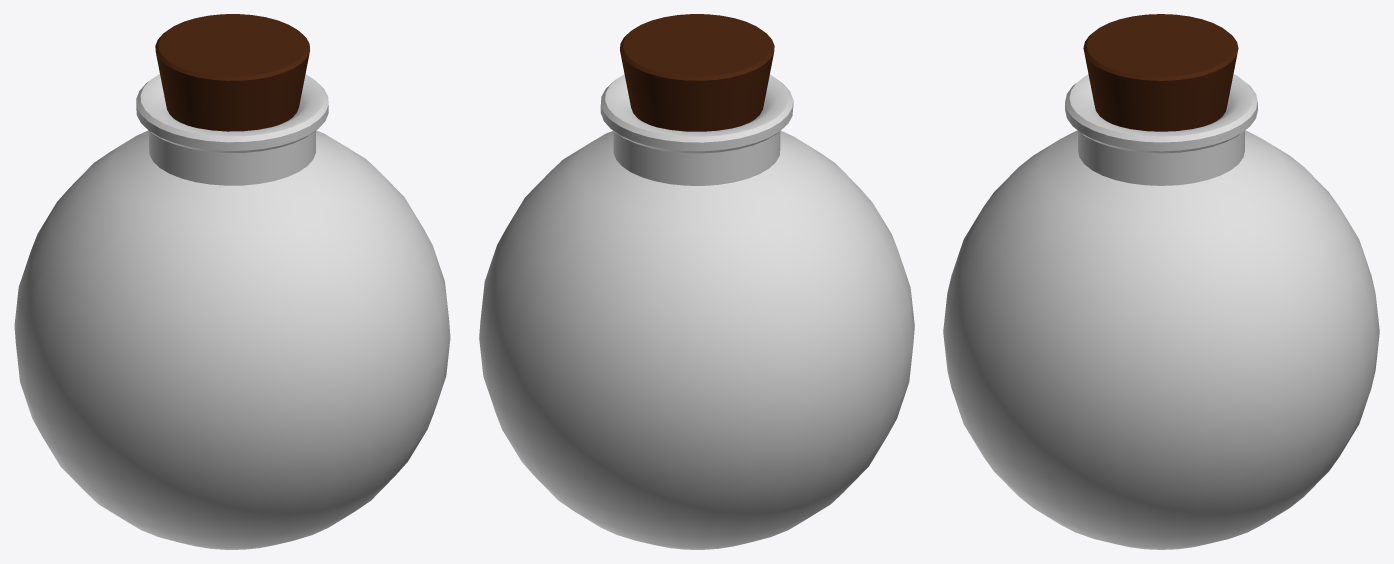
The model's file is round_flask.glb.
The picture shows the model from 3 angles, left to right: view 1: azimuth 30°, elevation 25°; view 2: azimuth 150°, elevation 25°; view 3: azimuth 270°, elevation 25°; orthographic projection.
Visible parts, largest first — view 1: RoundBottomFlask_2, Cork_2_3; view 2: RoundBottomFlask_2, Cork_2_3; view 3: RoundBottomFlask_2, Cork_2_3.
Part boxes in pixels (box(x1,y1,x2,y2)): RoundBottomFlask_2: box(14, 74, 450, 549); Cork_2_3: box(155, 14, 309, 131); RoundBottomFlask_2: box(479, 74, 914, 549); Cork_2_3: box(620, 14, 774, 131); RoundBottomFlask_2: box(943, 74, 1379, 549); Cork_2_3: box(1083, 14, 1238, 131).
Size of the model in its own units: 0.1823 by 0.223 by 0.1823.
